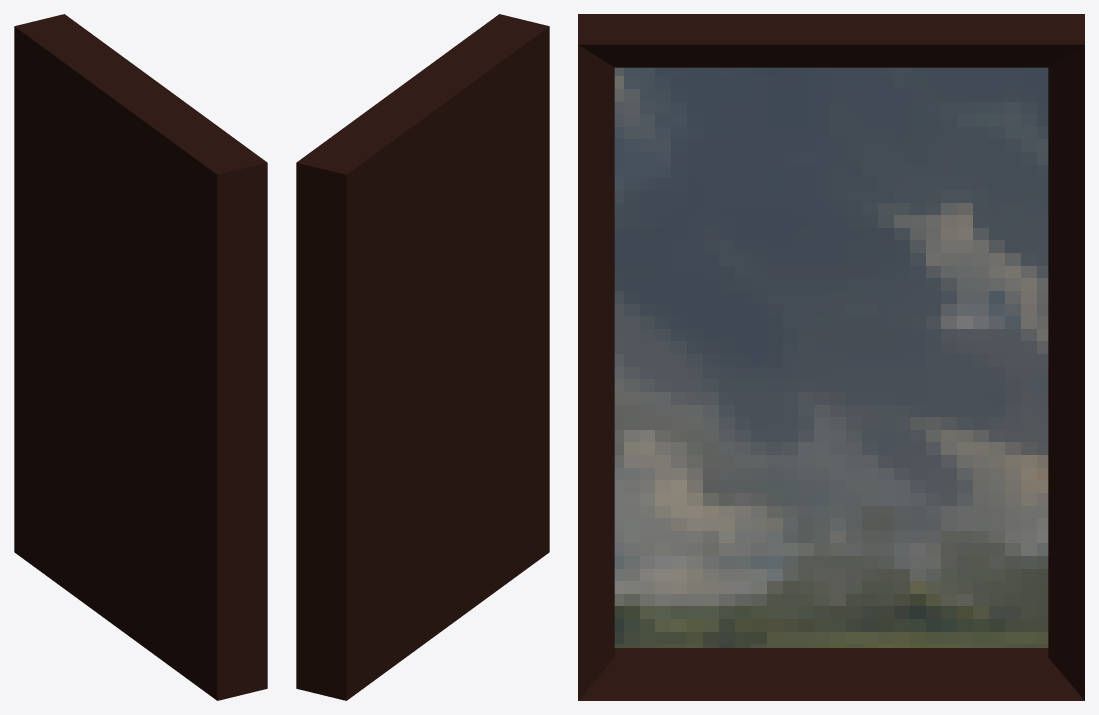
The model's file is Quadro 4.3.fbx.
3 renders of one model, left to right at view 1: azimuth 30°, elevation 25°; view 2: azimuth 150°, elevation 25°; view 3: azimuth 270°, elevation 25°, orthographic. The views are drawn at different scales.
Visible parts, largest first — view 1: Cube.037; view 2: Cube.037; view 3: Cube.037.
Boxes of the visible parts, x1=… form: Cube.037: x1=14, y1=14, x2=267, y2=700; Cube.037: x1=296, y1=14, x2=549, y2=700; Cube.037: x1=578, y1=14, x2=1084, y2=700.
Size of the model in its own units: 5 by 50 by 35.
